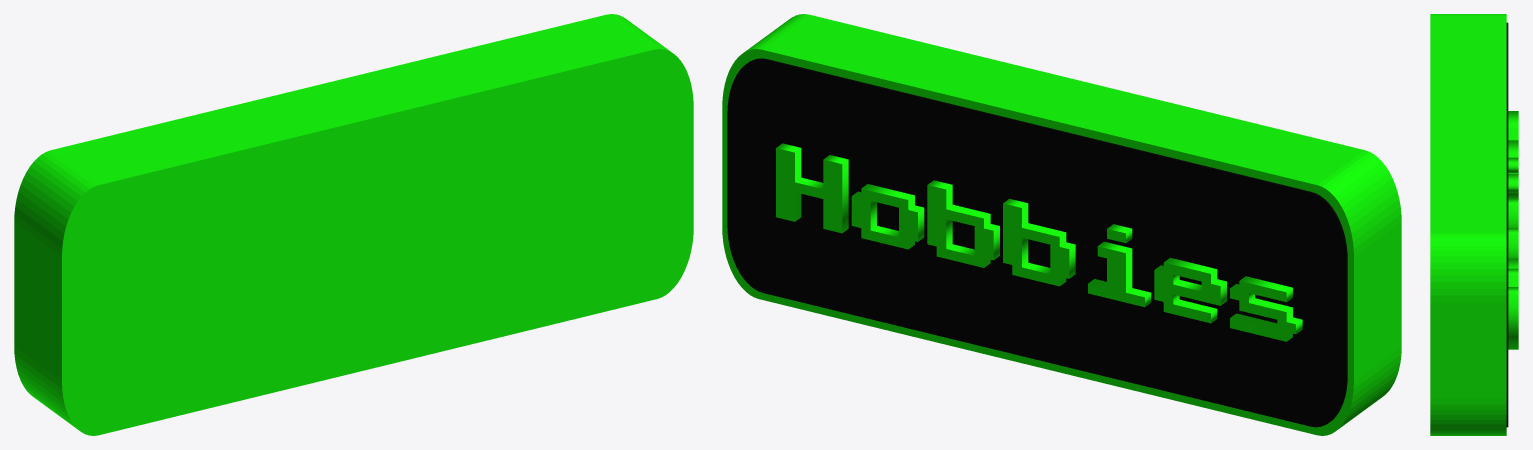
The model's file is btn-hobbies.glb.
3 views of the same model, side by side, from view 1: azimuth 30°, elevation 25°; view 2: azimuth 150°, elevation 25°; view 3: azimuth 270°, elevation 25° (orthographic). The views are drawn at different scales.
Visible parts, largest first — view 1: Cube.003; view 2: Cube.002, Cube.003, Text.001; view 3: Cube.003, Text.001, Cube.002.
Boxes of the visible parts, left/top/right/bottom form: Cube.003: left=14, top=14, right=693, bottom=435; Cube.002: left=727, top=58, right=1347, bottom=427; Cube.003: left=722, top=14, right=1401, bottom=435; Text.001: left=776, top=143, right=1302, bottom=341; Cube.003: left=1430, top=14, right=1506, bottom=435; Text.001: left=1508, top=111, right=1518, bottom=349; Cube.002: left=1506, top=22, right=1508, bottom=427.
Size of the model in its own units: 5.65 by 2.14 by 0.8568.
